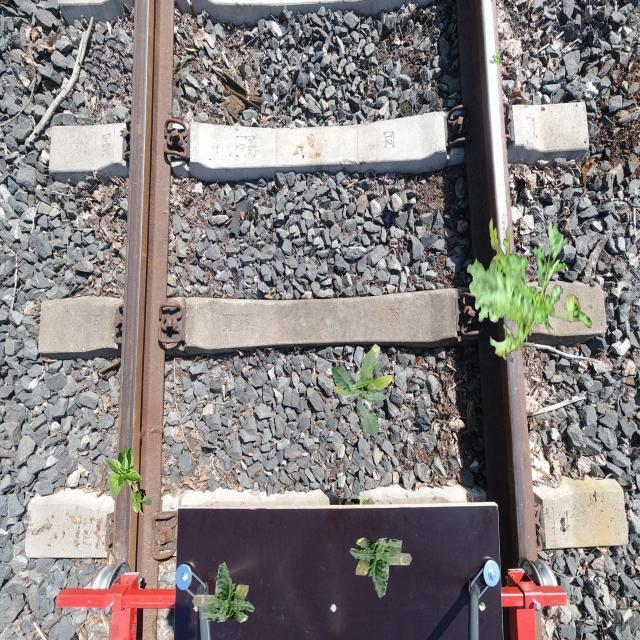Plant: (467, 216, 592, 363), (331, 343, 394, 436), (192, 561, 256, 623), (349, 538, 412, 600), (105, 445, 153, 516), (490, 48, 504, 64)
